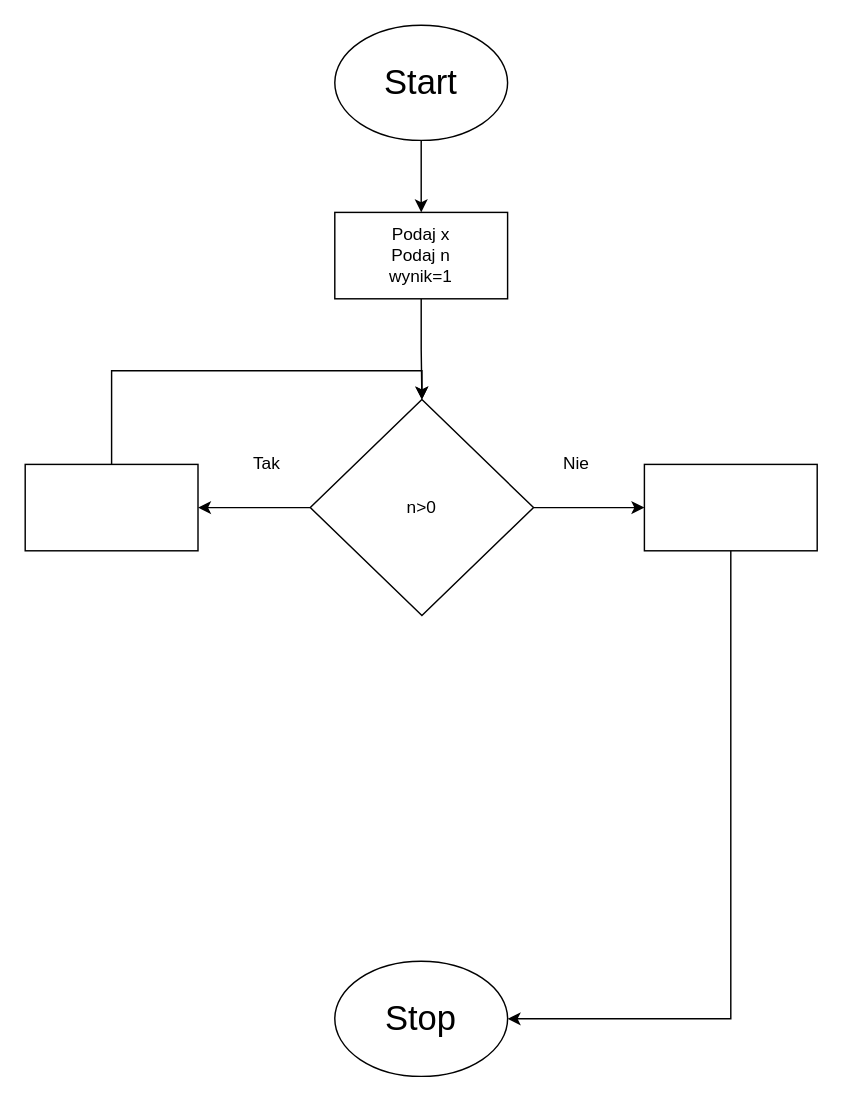
Image size: 842x1102. Some labels were removed from this diagram. Each missing label, with the centre of its shape:
"Pokaz wynik" belongs at (730,507).
"wynik=wynik*x n-1" belongs at (111,507).
